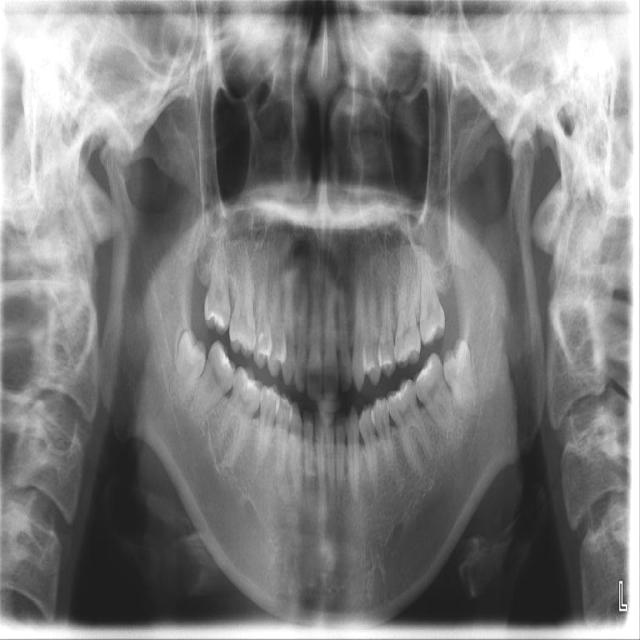impacted tooth: (445, 341, 480, 416), (172, 327, 205, 404)
